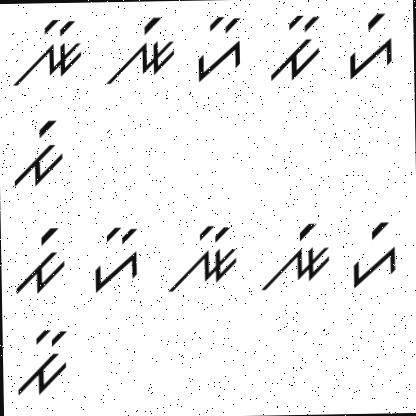han: (88, 222, 146, 296), (193, 10, 248, 86)
hang: (340, 5, 398, 82), (346, 217, 403, 292)
mban: (12, 322, 74, 398), (265, 12, 327, 84)
mbang: (10, 116, 70, 193), (10, 223, 68, 298)
ndan: (6, 14, 88, 92), (164, 219, 242, 297)
ndang: (254, 218, 332, 296), (100, 13, 178, 90)
